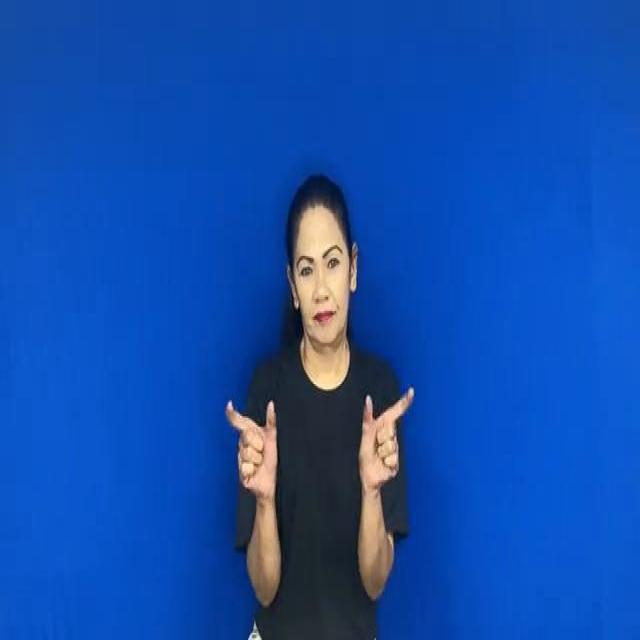crab: (214, 384, 422, 484)
